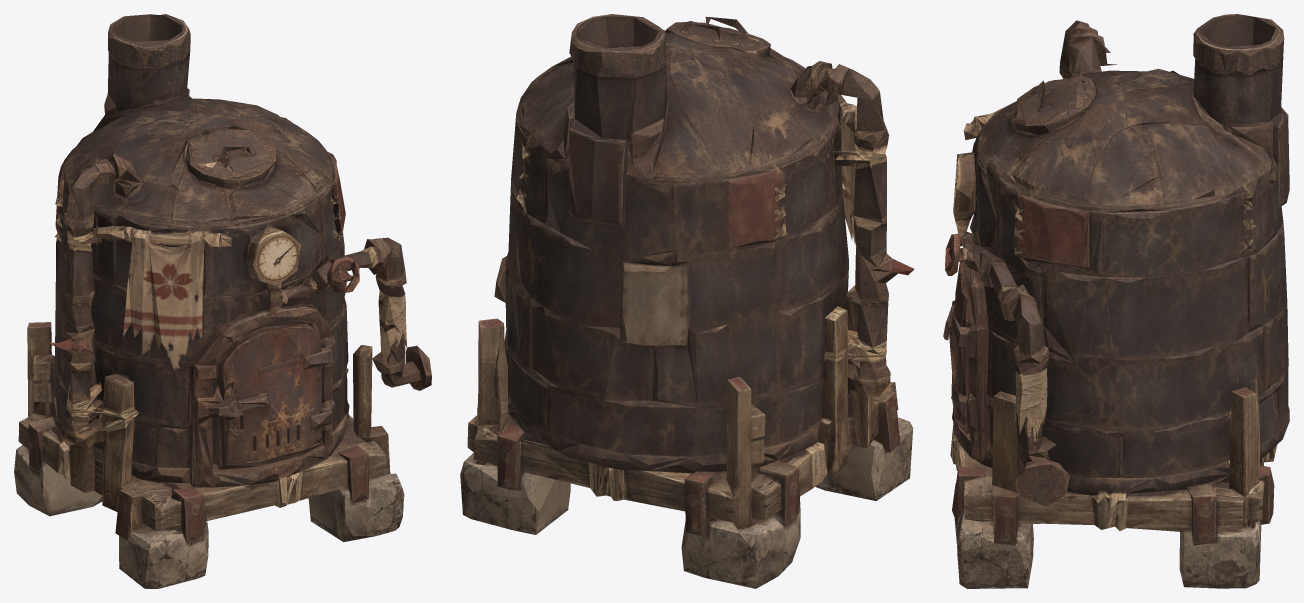
The model's file is steam-boiler.glb.
3 views of the same model, side by side, from view 1: azimuth 30°, elevation 25°; view 2: azimuth 150°, elevation 25°; view 3: azimuth 270°, elevation 25° (orthographic). The views are drawn at different scales.
Visible parts, largest first — view 1: output_unwrapped; view 2: output_unwrapped; view 3: output_unwrapped.
Boxes of the visible parts, <box> form: output_unwrapped: <box>14,14,431,588</box>; output_unwrapped: <box>460,14,914,588</box>; output_unwrapped: <box>943,14,1289,588</box>.
Size of the model in its own units: 1.63 by 1.9 by 1.22.
Materials: 1 (1 with a texture image).
